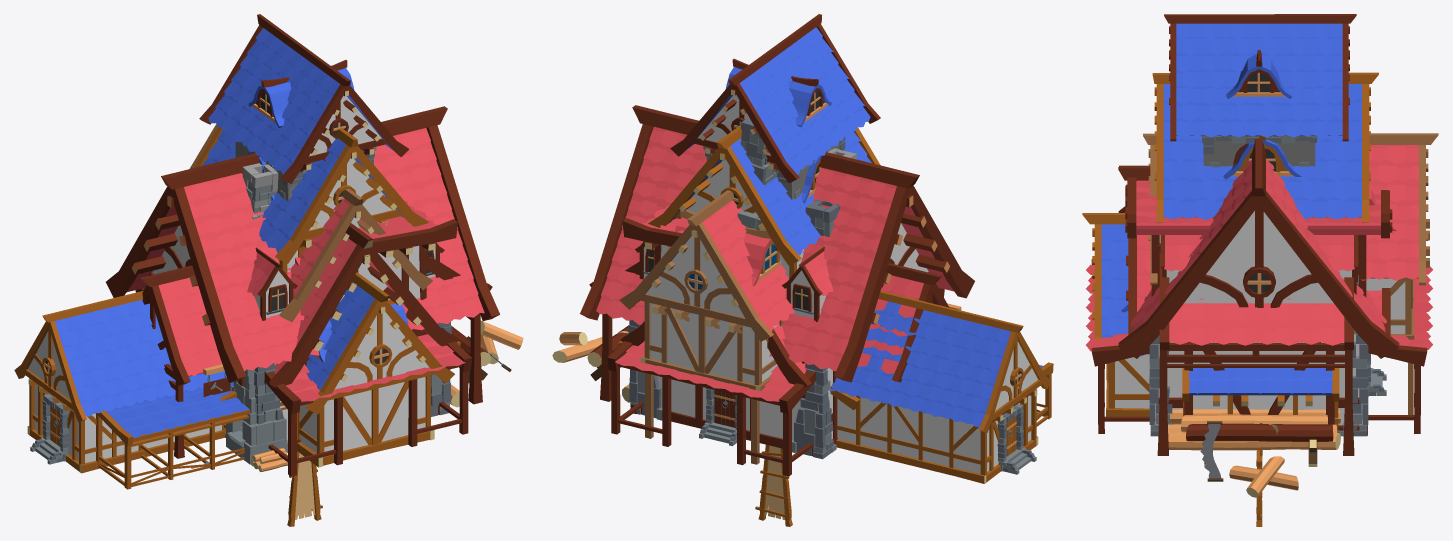
File: SC_Oberon_Pieces.fbx
3 views of the same model, side by side, from view 1: azimuth 30°, elevation 25°; view 2: azimuth 150°, elevation 25°; view 3: azimuth 270°, elevation 25° (orthographic). The views are drawn at different scales.
Parts seen in each view (by area): view 1: SM_Stable, SM_Inn, SM_Bell_Tower, SM_Blacksmith, SM_Mill_Base, SM_Sawmill, SM_House_2, SM_Mill_Blades, SM_House_1; view 2: SM_Inn, SM_Stable, SM_House_2, SM_Bell_Tower, SM_Mill_Base, SM_Blacksmith, SM_Sawmill, SM_Mill_Blades; view 3: SM_Inn, SM_Sawmill, SM_Bell_Tower, SM_Mill_Base, SM_House_2, SM_Stable, SM_Blacksmith.
Boxes of the visible parts, x1=… form: SM_Stable: x1=14, y1=272, x2=454, y2=489; SM_Inn: x1=106, y1=106, x2=499, y2=476; SM_Bell_Tower: x1=199, y1=14, x2=409, y2=247; SM_Blacksmith: x1=140, y1=223, x2=458, y2=471; SM_Mill_Base: x1=194, y1=127, x2=460, y2=401; SM_Sawmill: x1=269, y1=201, x2=523, y2=407; SM_House_2: x1=189, y1=124, x2=432, y2=321; SM_Mill_Blades: x1=287, y1=451, x2=322, y2=526; SM_House_1: x1=241, y1=163, x2=278, y2=219; SM_Inn: x1=580, y1=105, x2=974, y2=476; SM_Stable: x1=829, y1=291, x2=1053, y2=483; SM_House_2: x1=619, y1=190, x2=840, y2=464; SM_Bell_Tower: x1=670, y1=14, x2=880, y2=199; SM_Mill_Base: x1=617, y1=118, x2=880, y2=410; SM_Blacksmith: x1=620, y1=210, x2=961, y2=386; SM_Sawmill: x1=552, y1=200, x2=811, y2=402; SM_Mill_Blades: x1=755, y1=444, x2=792, y2=526; SM_Inn: x1=1086, y1=138, x2=1432, y2=436; SM_Sawmill: x1=1118, y1=167, x2=1392, y2=497; SM_Bell_Tower: x1=1164, y1=14, x2=1356, y2=167; SM_Mill_Base: x1=1152, y1=72, x2=1378, y2=432; SM_House_2: x1=1143, y1=133, x2=1438, y2=414; SM_Stable: x1=1082, y1=213, x2=1149, y2=416; SM_Blacksmith: x1=1119, y1=165, x2=1390, y2=335.
Bounding box in the file's own units: 13.47 × 12.88 × 8.24.
